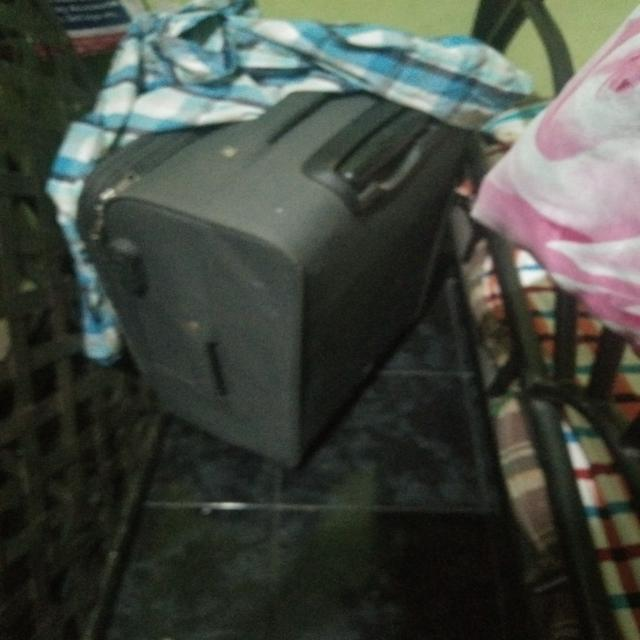suitcaserotation: (68, 87, 474, 473)
